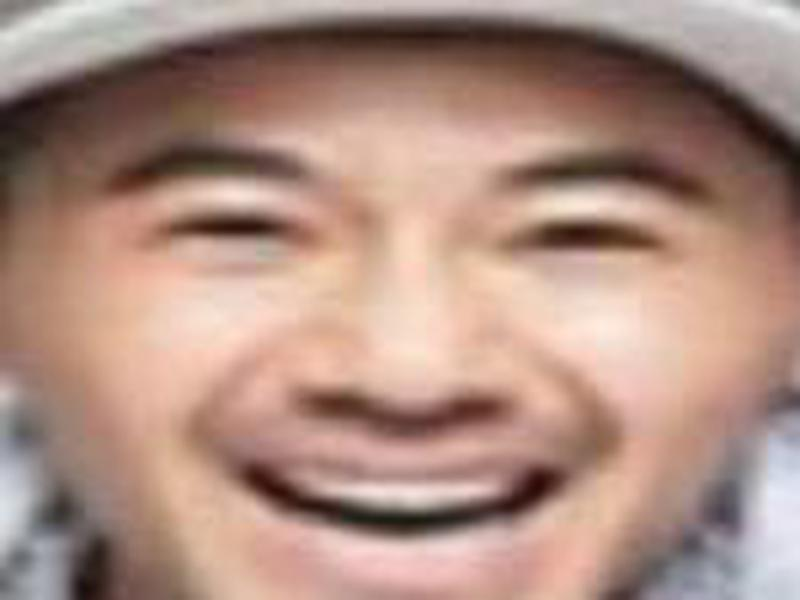without_mask: (21, 93, 785, 600)
